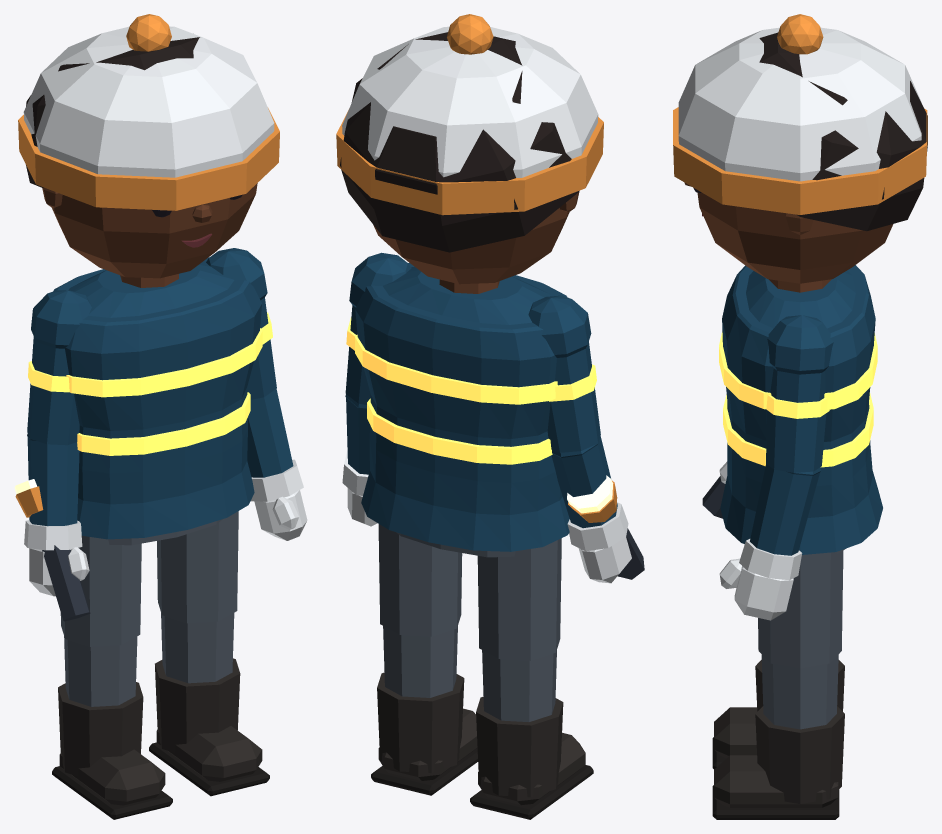
Rendered from fro-n1.glb.
3 renders of one model, left to right at view 1: azimuth 30°, elevation 25°; view 2: azimuth 150°, elevation 25°; view 3: azimuth 270°, elevation 25°, orthographic. The views are drawn at different scales.
Visible parts, largest first — view 1: kopfbedeckung, jacke, arm_r, bein_l, kopf, bein_r, schuh_r, schuh_l, arm_l, signalstreifen, torso, gegenstand_signal (+5 smaller); view 2: jacke, kopfbedeckung, haare, bein_r, bein_l, arm_r, schuh_r, schuh_l, signalstreifen, kopf, torso, arm_l (+3 smaller); view 3: kopfbedeckung, jacke, arm_l, bein_l, schuh_l, kopf, haare, signalstreifen, torso, schuh_r, hand_l, gegenstand_signal (+1 smaller).
Boxes of the visible parts, x1=… form: kopfbedeckung: x1=18, y1=14, x2=279, y2=210; jacke: x1=53, y1=257, x2=261, y2=539; arm_r: x1=24, y1=290, x2=91, y2=550; bein_l: x1=157, y1=511, x2=238, y2=683; kopf: x1=42, y1=183, x2=257, y2=278; bein_r: x1=60, y1=536, x2=141, y2=706; schuh_r: x1=52, y1=682, x2=172, y2=819; schuh_l: x1=149, y1=658, x2=269, y2=796; arm_l: x1=206, y1=248, x2=303, y2=501; signalstreifen: x1=66, y1=328, x2=262, y2=455; torso: x1=68, y1=261, x2=234, y2=317; gegenstand_signal: x1=14, y1=479, x2=90, y2=621; jacke: x1=355, y1=263, x2=569, y2=551; kopfbedeckung: x1=336, y1=14, x2=603, y2=215; haare: x1=340, y1=32, x2=578, y2=252; bein_r: x1=477, y1=538, x2=561, y2=721; bein_l: x1=378, y1=524, x2=462, y2=697; arm_r: x1=528, y1=295, x2=628, y2=551; schuh_r: x1=470, y1=696, x2=593, y2=819; schuh_l: x1=371, y1=672, x2=477, y2=795; signalstreifen: x1=355, y1=334, x2=557, y2=464; kopf: x1=373, y1=190, x2=579, y2=284; torso: x1=383, y1=266, x2=551, y2=324; arm_l: x1=342, y1=252, x2=411, y2=495; kopfbedeckung: x1=673, y1=14, x2=927, y2=214; jacke: x1=720, y1=265, x2=882, y2=554; arm_l: x1=739, y1=315, x2=833, y2=580; bein_l: x1=758, y1=551, x2=843, y2=729; schuh_l: x1=712, y1=706, x2=844, y2=819; kopf: x1=697, y1=192, x2=893, y2=283; haare: x1=759, y1=32, x2=927, y2=231; signalstreifen: x1=719, y1=332, x2=877, y2=467; torso: x1=746, y1=270, x2=855, y2=328; schuh_r: x1=712, y1=660, x2=844, y2=769; hand_l: x1=719, y1=558, x2=793, y2=620; gegenstand_signal: x1=702, y1=476, x2=725, y2=518.
Bounding box in the file's own units: 0.01 × 0.0264 × 0.00795.
